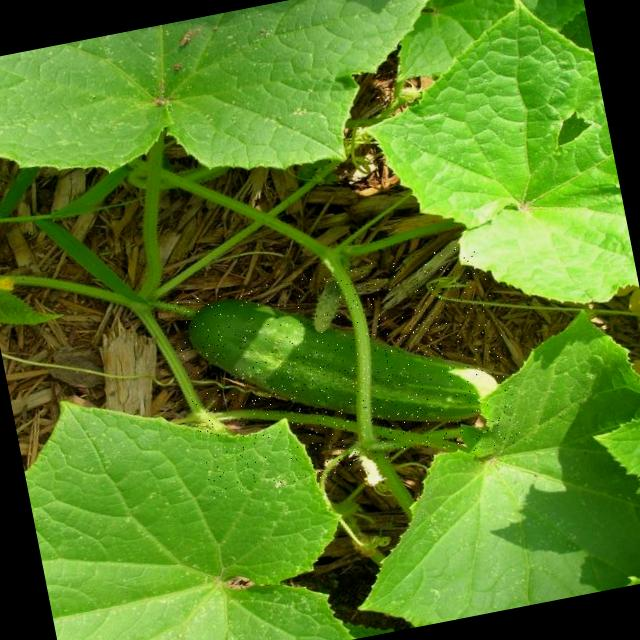Cucumber: (182, 254, 488, 474)
